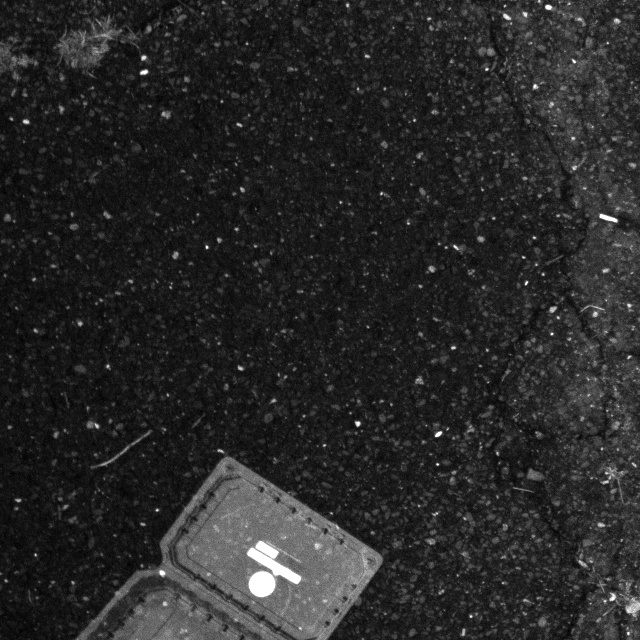container: (61, 423, 389, 640)
